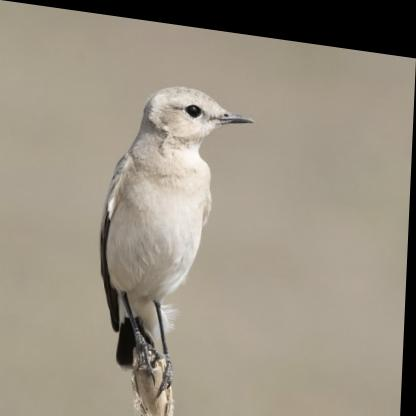Burung: (92, 57, 259, 403)
